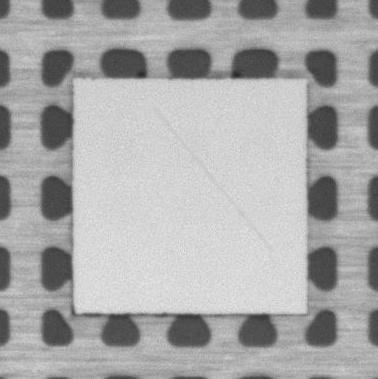DIE_CRACK: (154, 108, 271, 251)
